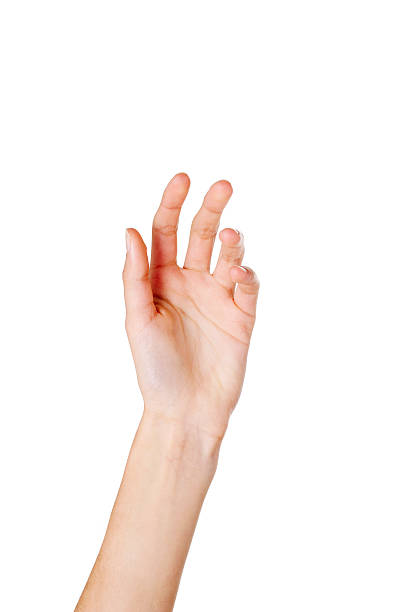non-diseased: (122, 168, 261, 433)
